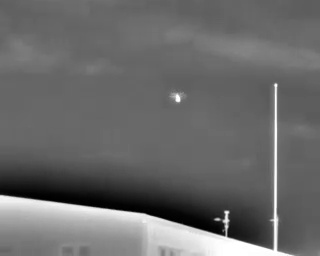HELICOPTER: (166, 87, 190, 107)
